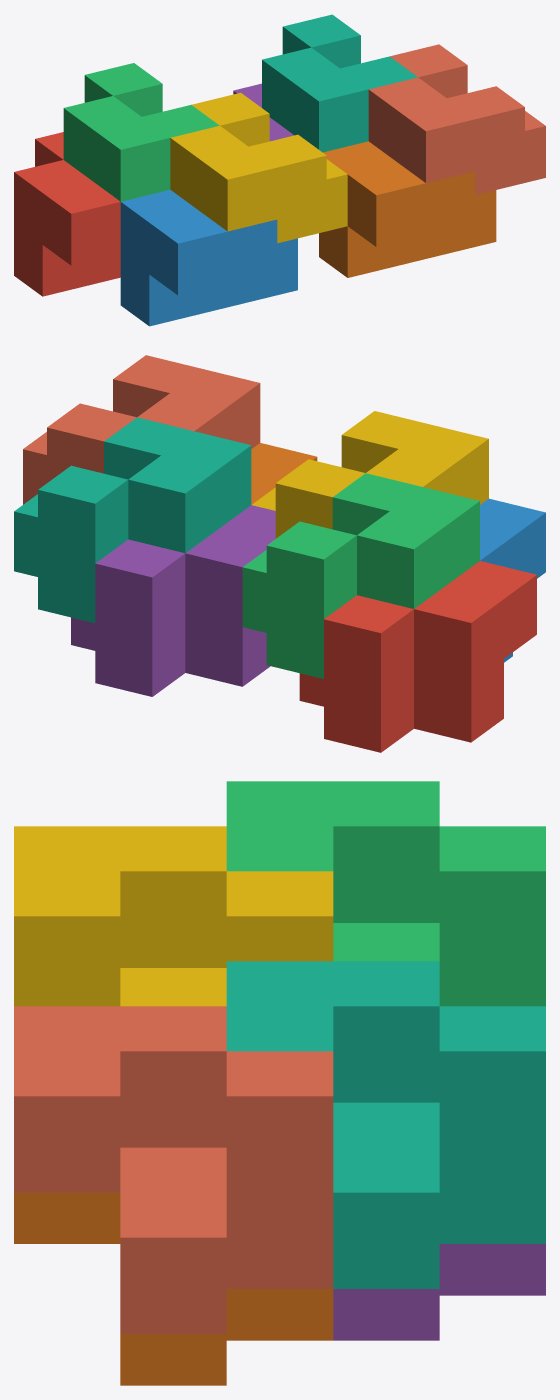
The model's file is tiling.obj.
3 renders of one model, top to bottom at view 1: azimuth 30°, elevation 25°; view 2: azimuth 150°, elevation 25°; view 3: azimuth 270°, elevation 25°, orthographic. The views are drawn at different scales.
Parts seen in each view (by area): view 1: copy_1_domain_4, copy_1_domain_8, copy_1_domain_2, copy_1_domain_6, copy_1_domain_1, copy_1_domain_3, copy_1_domain_7, copy_1_domain_5; view 2: copy_1_domain_1, copy_1_domain_3, copy_1_domain_7, copy_1_domain_5, copy_1_domain_8, copy_1_domain_4, copy_1_domain_2, copy_1_domain_6; view 3: copy_1_domain_8, copy_1_domain_7, copy_1_domain_3, copy_1_domain_4, copy_1_domain_6, copy_1_domain_5.
Part boxes in pixels (bbox=[...]): copy_1_domain_4: bbox=[170, 92, 347, 243]; copy_1_domain_8: bbox=[368, 44, 545, 194]; copy_1_domain_2: bbox=[120, 189, 297, 326]; copy_1_domain_6: bbox=[319, 141, 496, 277]; copy_1_domain_1: bbox=[14, 132, 120, 296]; copy_1_domain_3: bbox=[63, 63, 219, 201]; copy_1_domain_7: bbox=[262, 14, 417, 152]; copy_1_domain_5: bbox=[233, 83, 293, 141]; copy_1_domain_1: bbox=[299, 561, 536, 752]; copy_1_domain_3: bbox=[242, 473, 479, 678]; copy_1_domain_7: bbox=[14, 417, 251, 623]; copy_1_domain_5: bbox=[71, 505, 275, 696]; copy_1_domain_8: bbox=[23, 355, 260, 504]; copy_1_domain_4: bbox=[252, 411, 488, 538]; copy_1_domain_2: bbox=[480, 498, 545, 662]; copy_1_domain_6: bbox=[251, 443, 317, 504]; copy_1_domain_8: bbox=[14, 1006, 333, 1333]; copy_1_domain_7: bbox=[226, 961, 545, 1288]; copy_1_domain_3: bbox=[226, 781, 545, 1006]; copy_1_domain_4: bbox=[14, 826, 333, 1006]; copy_1_domain_6: bbox=[14, 1192, 333, 1385]; copy_1_domain_5: bbox=[333, 1244, 545, 1340].
Bounding box in the file's own units: 9 × 3 × 5.
